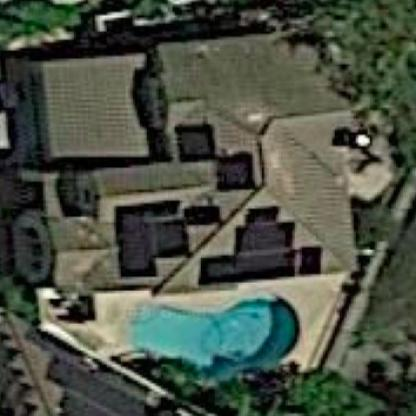solar_panel: (189, 210, 336, 285), (106, 191, 223, 280), (174, 119, 256, 193)
swimming_pool: (123, 289, 310, 386)
